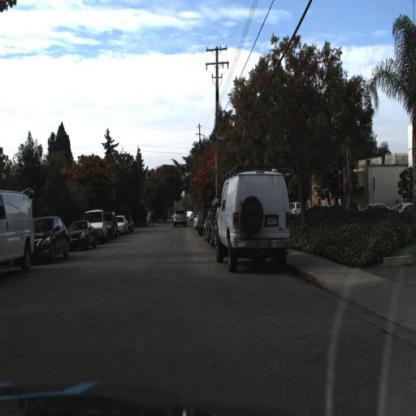car: (214, 167, 293, 285), (1, 190, 35, 276), (33, 213, 76, 267), (69, 217, 100, 252), (174, 205, 191, 231)
